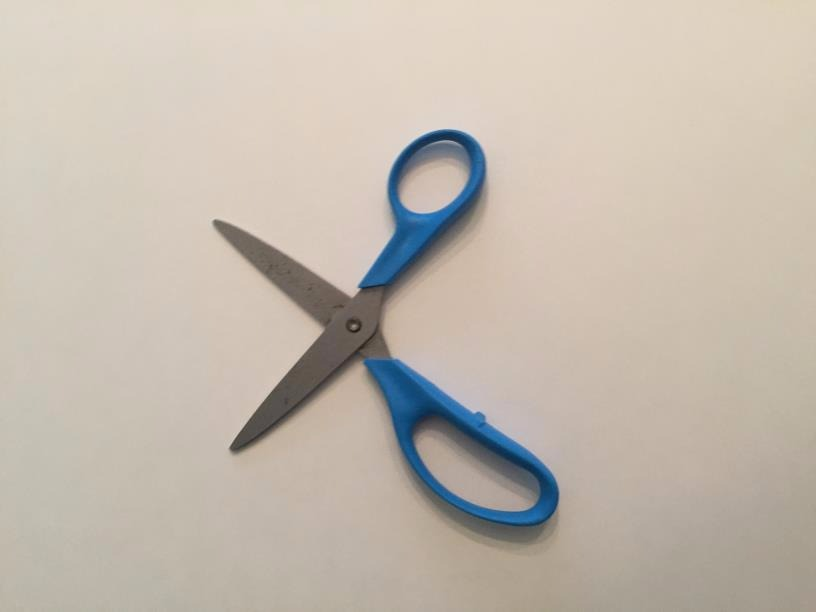scissor: (188, 103, 589, 545)
